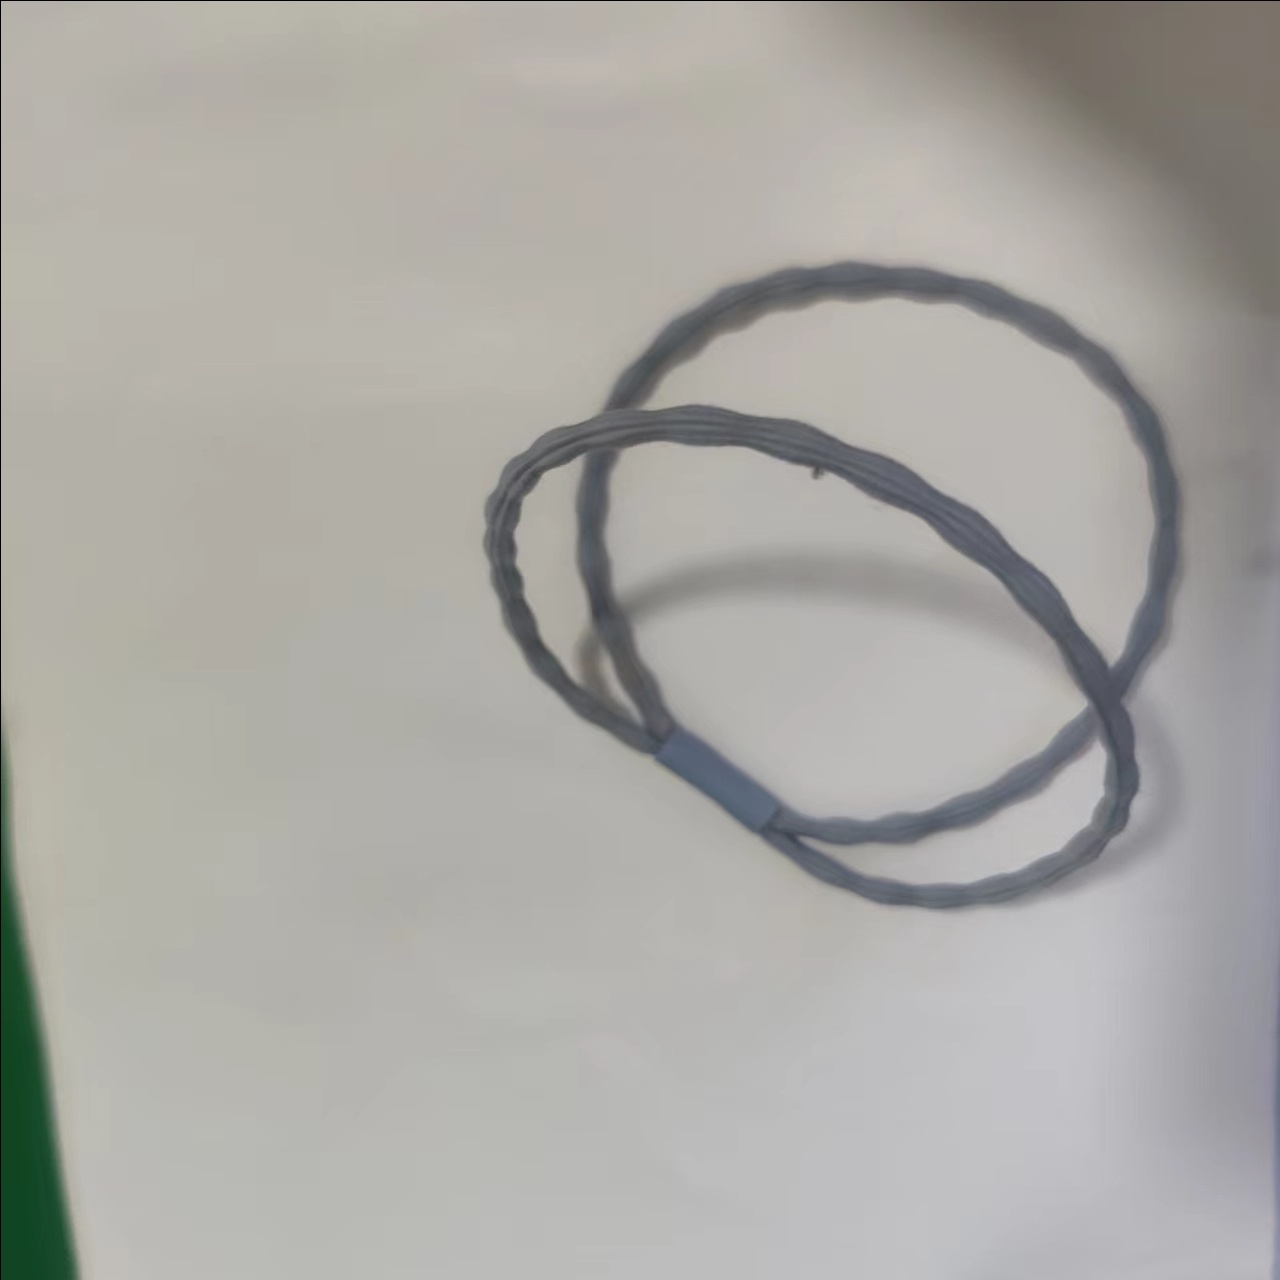9/可回收垃圾/绳子: (478, 258, 1184, 911)
